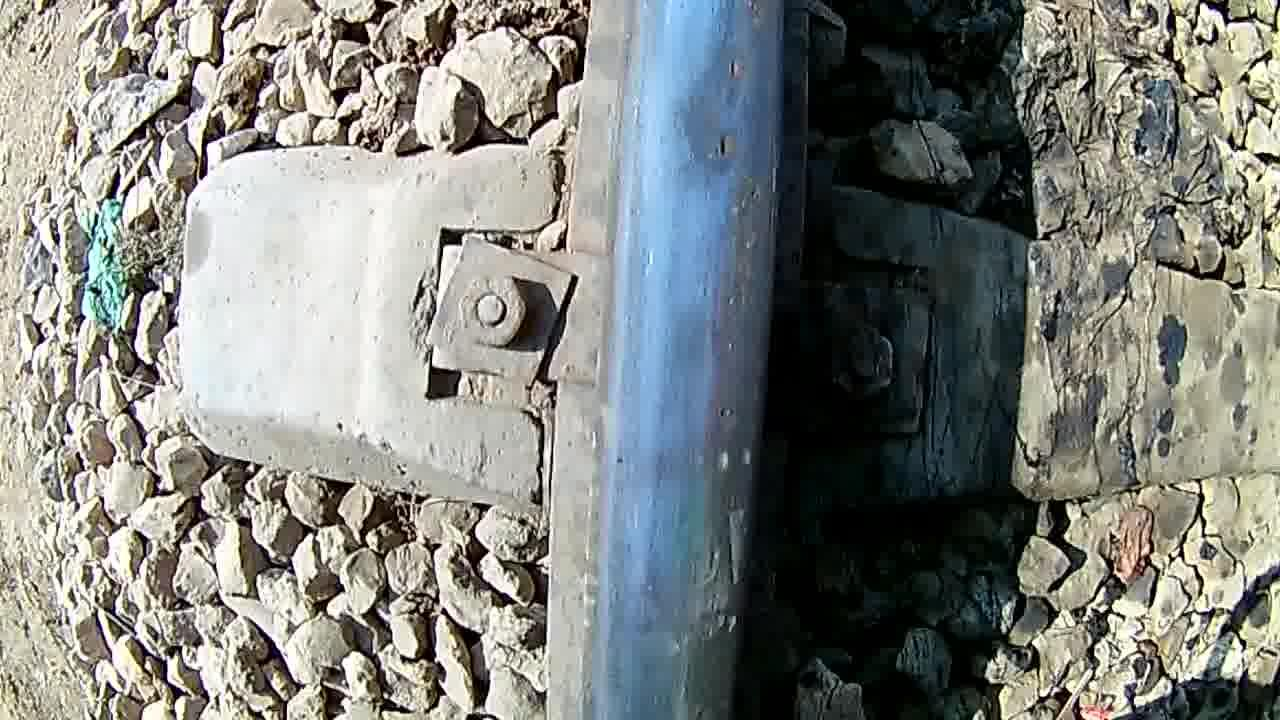crack: (640, 3, 763, 714)
